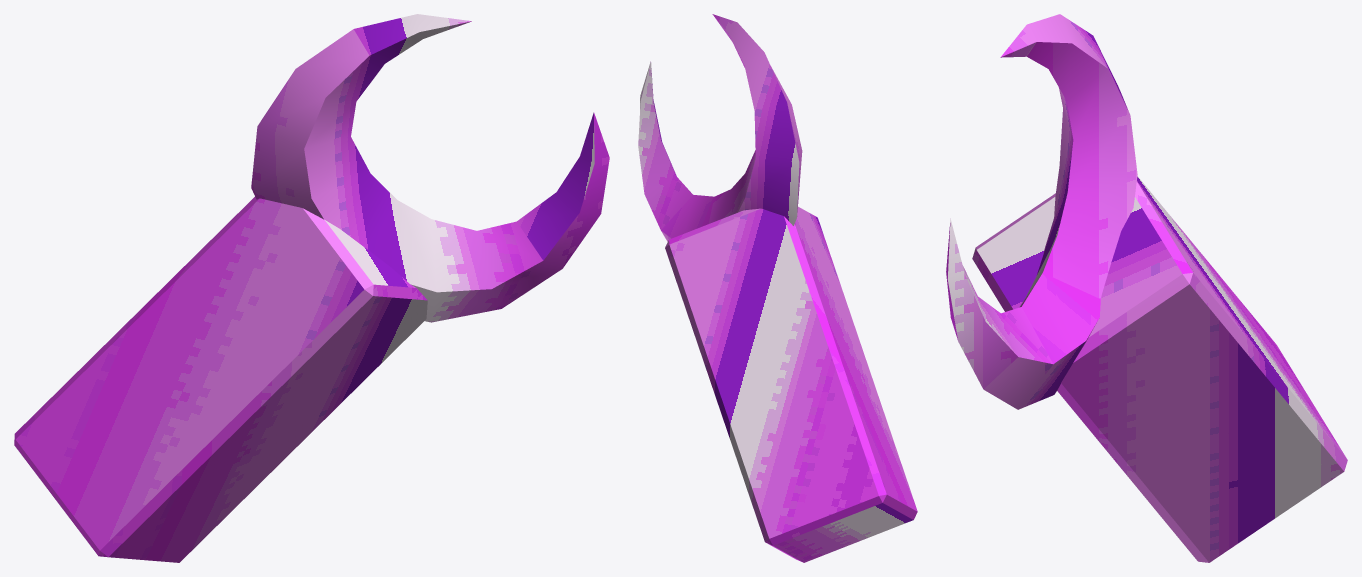
Rendered from Mineral2UVFixed.obj.
3 views of the same model, side by side, from view 1: azimuth 30°, elevation 25°; view 2: azimuth 150°, elevation 25°; view 3: azimuth 270°, elevation 25° (orthographic). The views are drawn at different scales.
Visible parts, largest first — view 1: Mineral2UVFixed; view 2: Mineral2UVFixed; view 3: Mineral2UVFixed.
Boxes of the visible parts, bbox=[...] form: Mineral2UVFixed: bbox=[14, 14, 609, 562]; Mineral2UVFixed: bbox=[638, 14, 917, 562]; Mineral2UVFixed: bbox=[946, 14, 1347, 562].
Bounding box in the file's own units: 9.96 × 12.02 × 7.01.
1 material, 1 textured.
